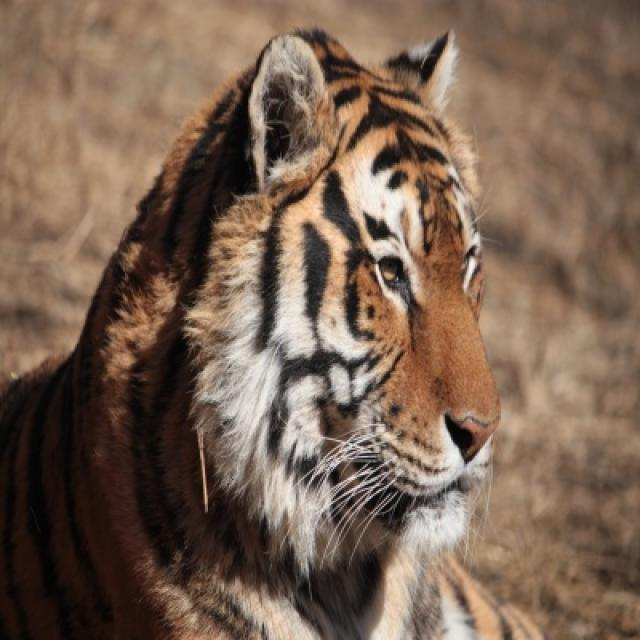Tiger: (0, 29, 536, 638)
